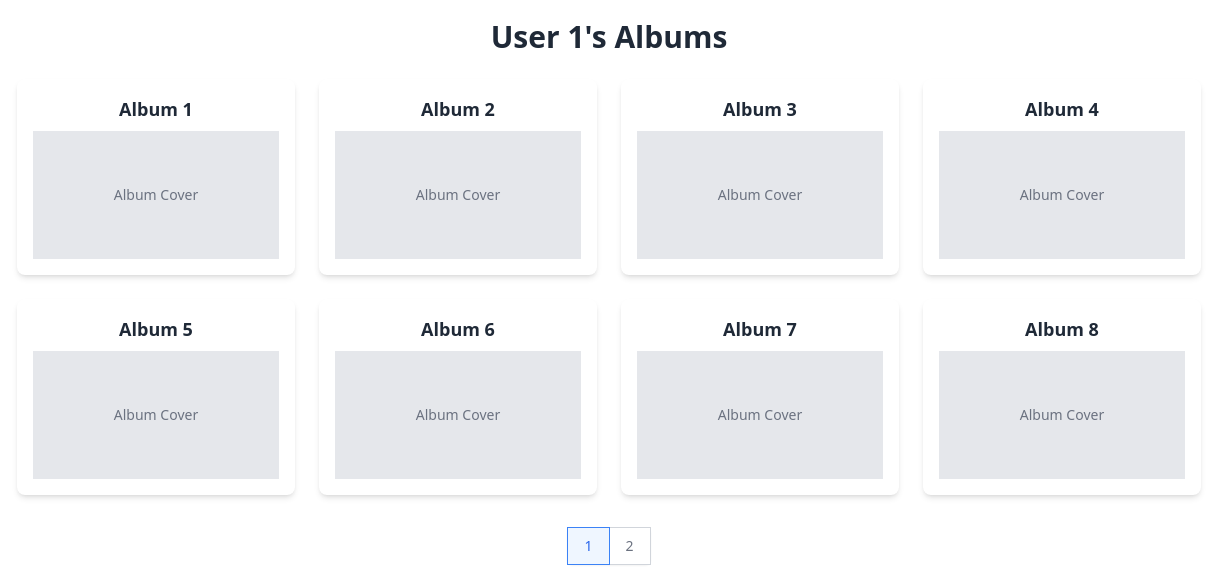
Test: Albums Component › handles pagination correctly
Expected: the heading "User 1's Albums" is shown, [491,16,727,57]
Expected: the heading "Album 1" is shown, [119,97,193,121]
Note: Click second page
Click the button "2": (630, 546) [608,527,650,565]
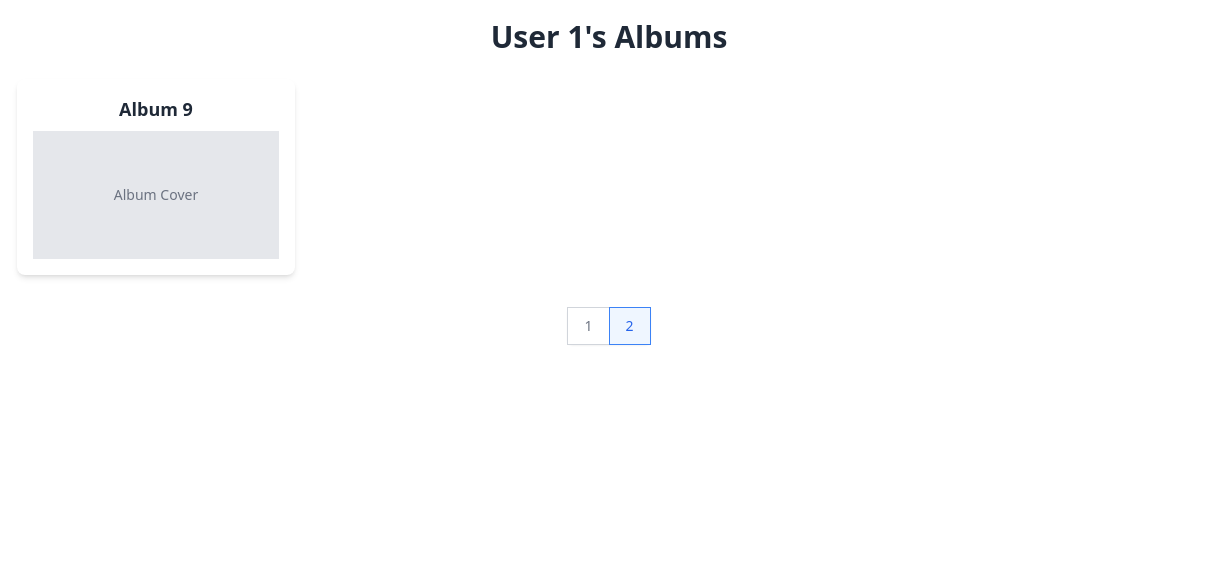
Expected: the heading "Album 9" is shown, [119,97,193,121]
